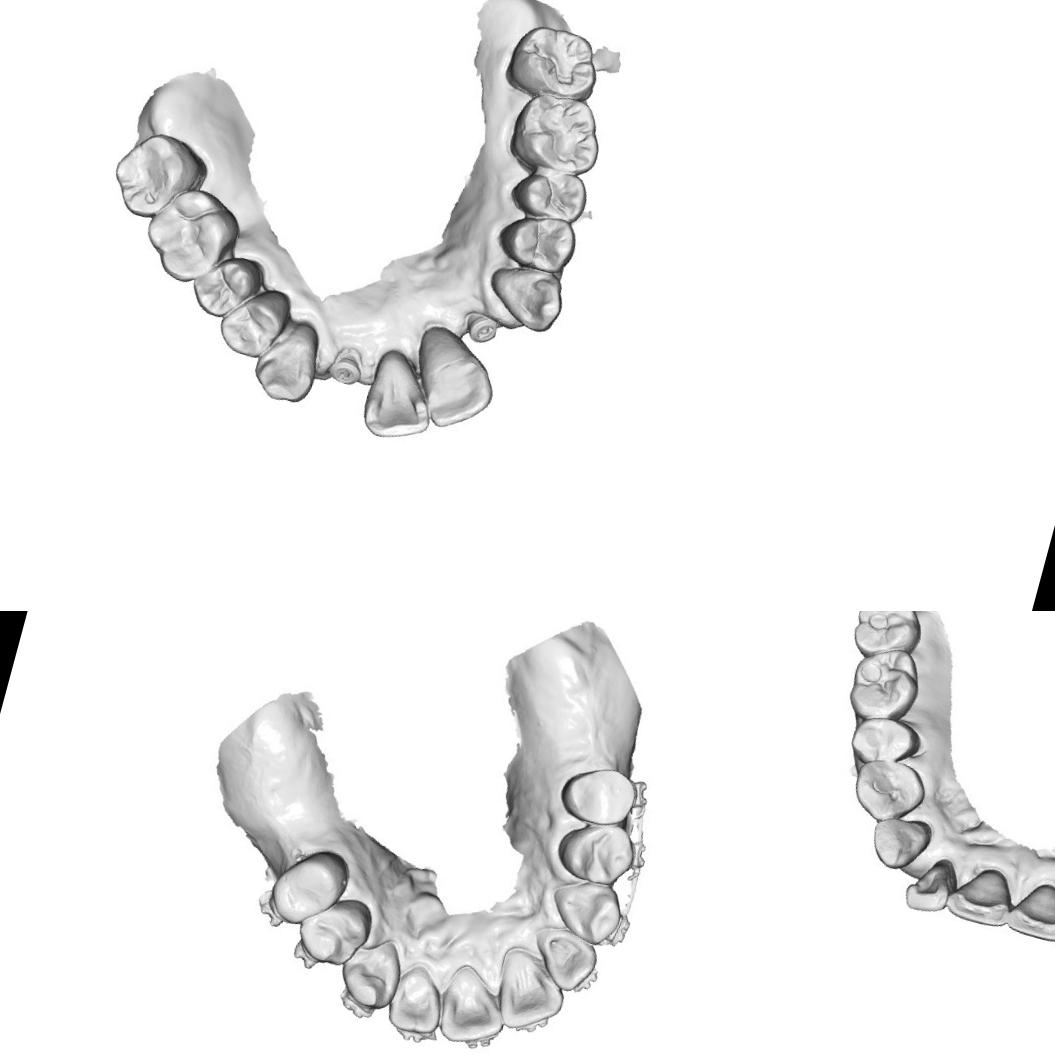canine: (478, 254, 572, 336), (247, 314, 326, 410), (545, 870, 626, 948), (331, 932, 408, 1014), (864, 806, 934, 877)
implant_minus: (328, 345, 366, 388), (458, 306, 498, 345)
incisor: (404, 339, 501, 436), (356, 346, 446, 450), (490, 950, 574, 1042), (432, 964, 514, 1050), (940, 859, 1020, 933), (382, 962, 450, 1042), (532, 930, 600, 998), (898, 852, 962, 920), (999, 878, 1055, 950)
molar: (136, 180, 246, 292), (101, 120, 208, 226), (503, 8, 607, 108), (503, 85, 609, 181), (839, 638, 928, 730), (845, 611, 929, 663)
premolar: (262, 840, 354, 936), (489, 202, 584, 280), (554, 754, 642, 834), (182, 245, 266, 328), (553, 812, 640, 890), (504, 157, 594, 230), (212, 283, 292, 362), (848, 752, 929, 830), (298, 899, 373, 973), (842, 708, 926, 773)
